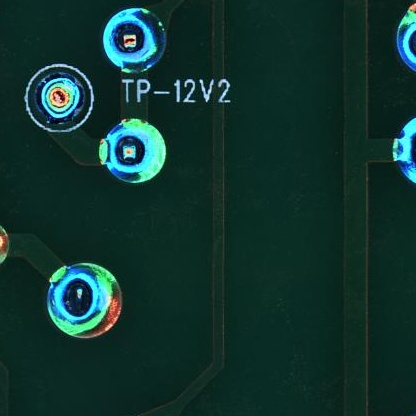spot: (47, 262, 123, 341), (98, 118, 168, 182), (103, 7, 166, 73), (31, 69, 86, 126)
